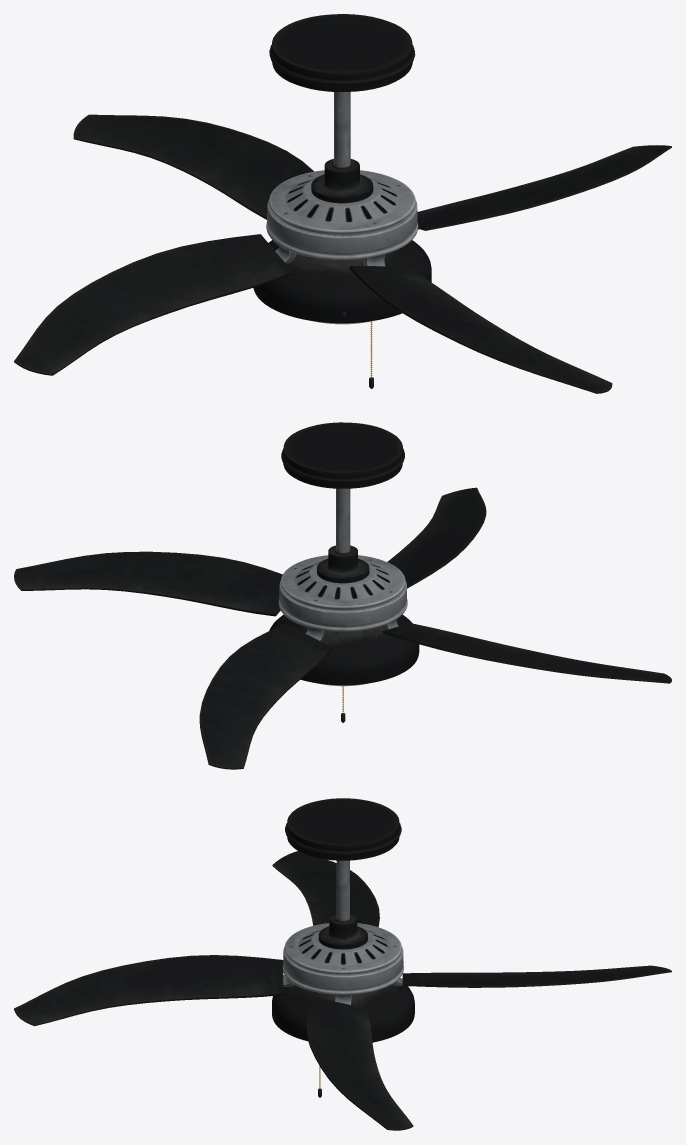
The model's file is ceiling-fan.glb.
3 renders of one model, top to bottom at view 1: azimuth 30°, elevation 25°; view 2: azimuth 150°, elevation 25°; view 3: azimuth 270°, elevation 25°, orthographic. The views are drawn at different scales.
Parts seen in each view (by area): view 1: blade_2, blade_3, canopy, motor_housing, blade_1, switch_housing, blade_4, coupling_cover, rotor; view 2: blade_4, blade_3, canopy, motor_housing, switch_housing, blade_2, blade_1, coupling_cover; view 3: blade_1, blade_4, canopy, motor_housing, switch_housing, blade_2, blade_3, coupling_cover.
Boxes of the visible parts, x1=… form: blade_2: x1=14, y1=234, x2=296, y2=375; blade_3: x1=73, y1=114, x2=313, y2=219; canopy: x1=269, y1=14, x2=415, y2=167; motor_housing: x1=267, y1=170, x2=417, y2=256; blade_1: x1=349, y1=254, x2=612, y2=393; switch_housing: x1=253, y1=240, x2=431, y2=323; blade_4: x1=417, y1=145, x2=671, y2=230; coupling_cover: x1=311, y1=159, x2=373, y2=203; rotor: x1=266, y1=223, x2=418, y2=259; blade_4: x1=14, y1=551, x2=282, y2=616; blade_3: x1=199, y1=623, x2=332, y2=769; canopy: x1=281, y1=422, x2=404, y2=552; motor_housing: x1=279, y1=555, x2=407, y2=628; switch_housing: x1=269, y1=614, x2=419, y2=685; blade_2: x1=382, y1=619, x2=671, y2=683; blade_1: x1=387, y1=487, x2=486, y2=588; coupling_cover: x1=317, y1=545, x2=369, y2=583; blade_1: x1=14, y1=955, x2=294, y2=1026; blade_4: x1=306, y1=994, x2=413, y2=1130; canopy: x1=285, y1=798, x2=401, y2=920; motor_housing: x1=283, y1=923, x2=403, y2=992; switch_housing: x1=272, y1=984, x2=414, y2=1042; blade_2: x1=272, y1=851, x2=379, y2=927; blade_3: x1=392, y1=965, x2=671, y2=987; coupling_cover: x1=318, y1=914, x2=367, y2=949.
Size of the model in its own units: 1.46 by 0.662 by 1.46.
Materials: 19 (1 with a texture image).
